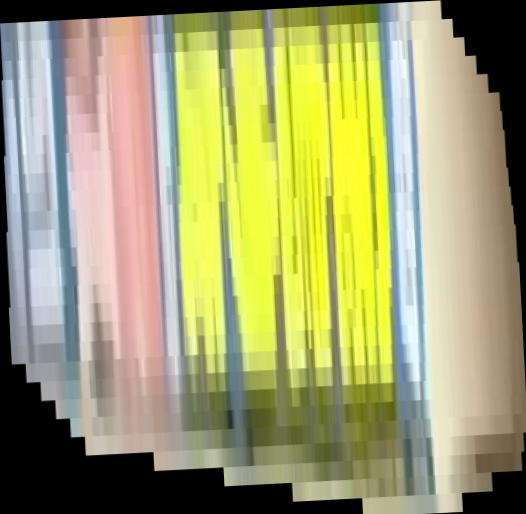flat: (1, 1, 526, 514)
